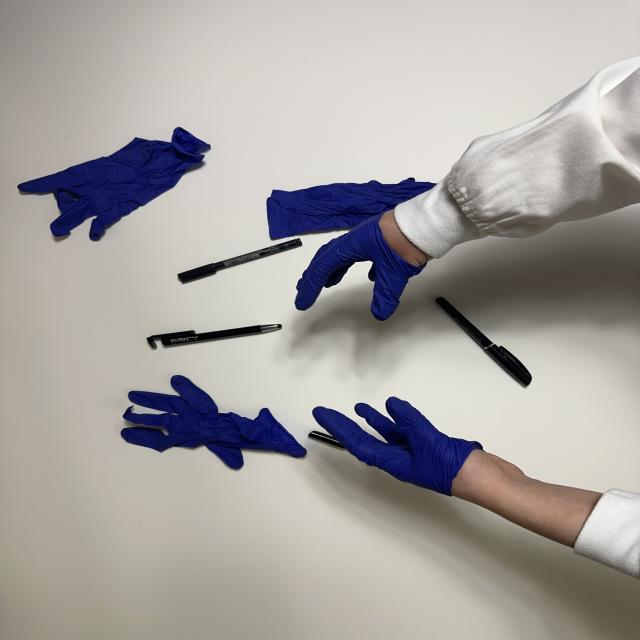glove_not_fitted: (311, 397, 530, 503), (292, 205, 434, 323)
